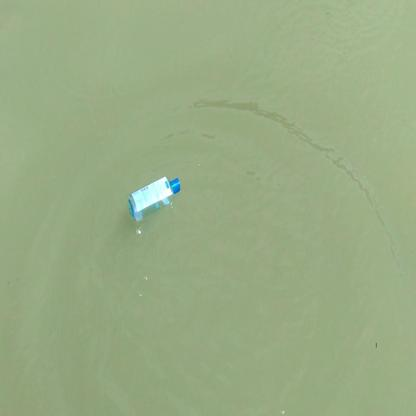plastic bottle: (125, 176, 182, 217)
